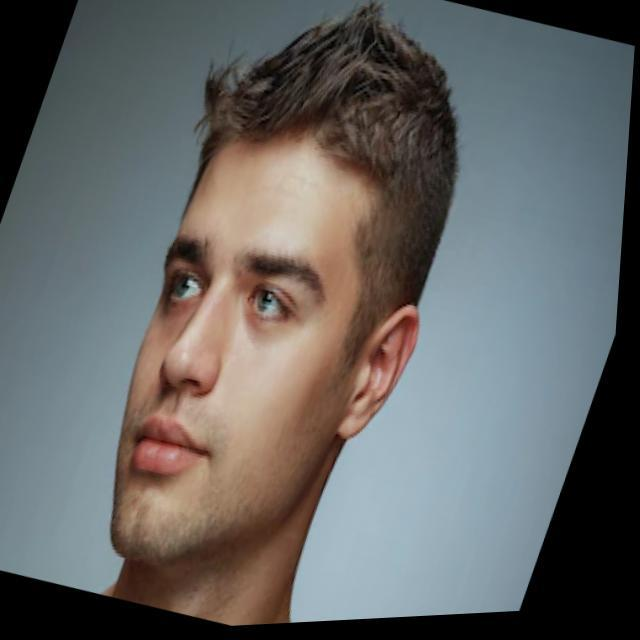Nonhelmet: (103, 2, 464, 567)
